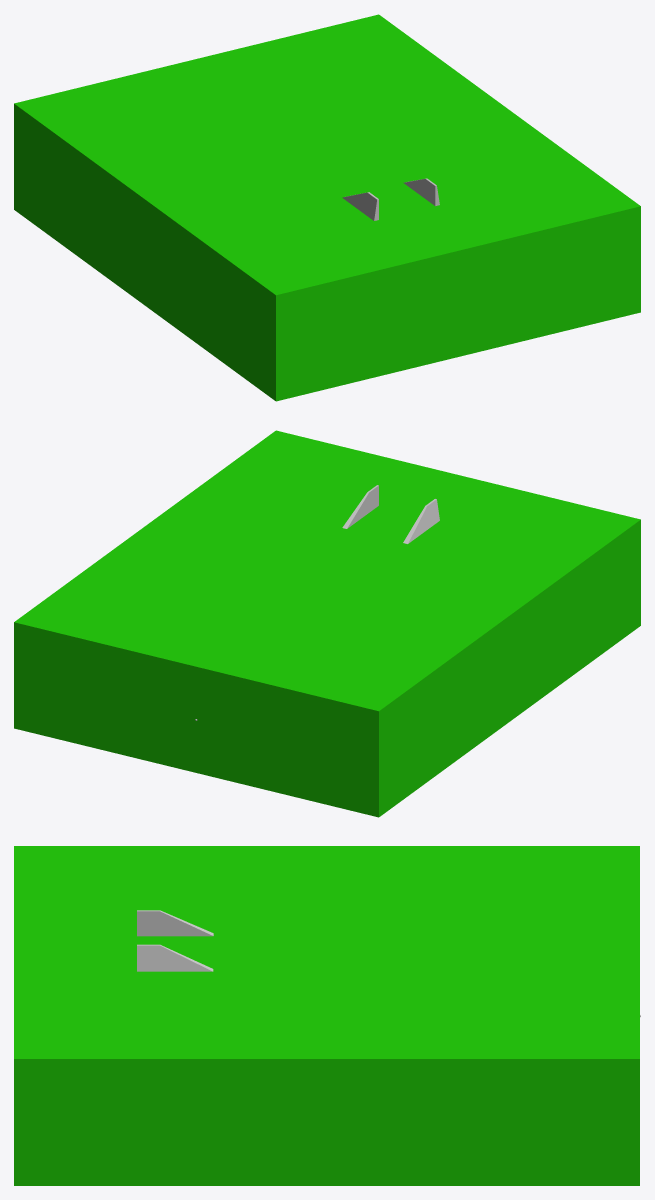
3 views of the same model, one above another, from view 1: azimuth 30°, elevation 25°; view 2: azimuth 150°, elevation 25°; view 3: azimuth 270°, elevation 25° (orthographic). The views are drawn at different scales.
Parts seen in each view (by area): view 1: colCube-1, Jet; view 2: colCube-1, Jet; view 3: colCube-1, Jet.
Boxes of the visible parts, x1=… form: colCube-1: x1=14, y1=14, x2=640, y2=401; Jet: x1=342, y1=178, x2=439, y2=220; colCube-1: x1=14, y1=430, x2=640, y2=817; Jet: x1=195, y1=485, x2=439, y2=720; colCube-1: x1=14, y1=846, x2=639, y2=1185; Jet: x1=137, y1=910, x2=640, y2=1017.
Bounding box in the file's own units: 7.19 × 8.96 × 2.39.
